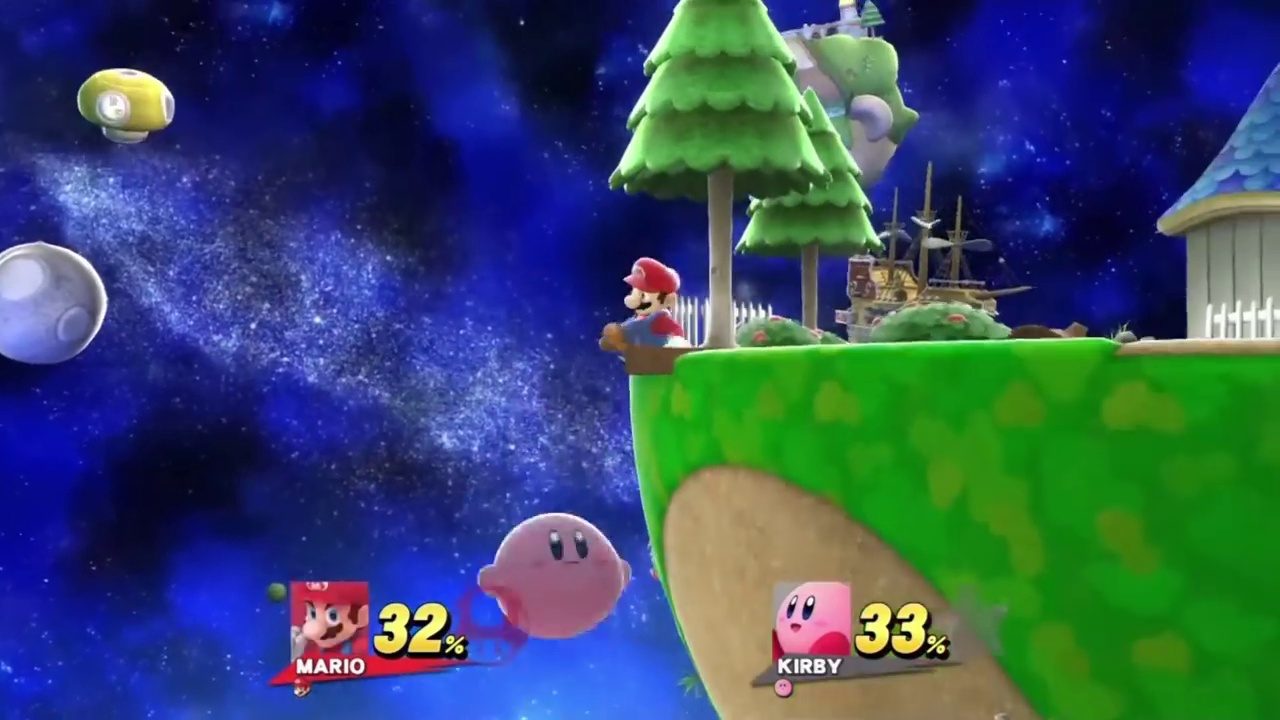Mario: (599, 254, 692, 349)
